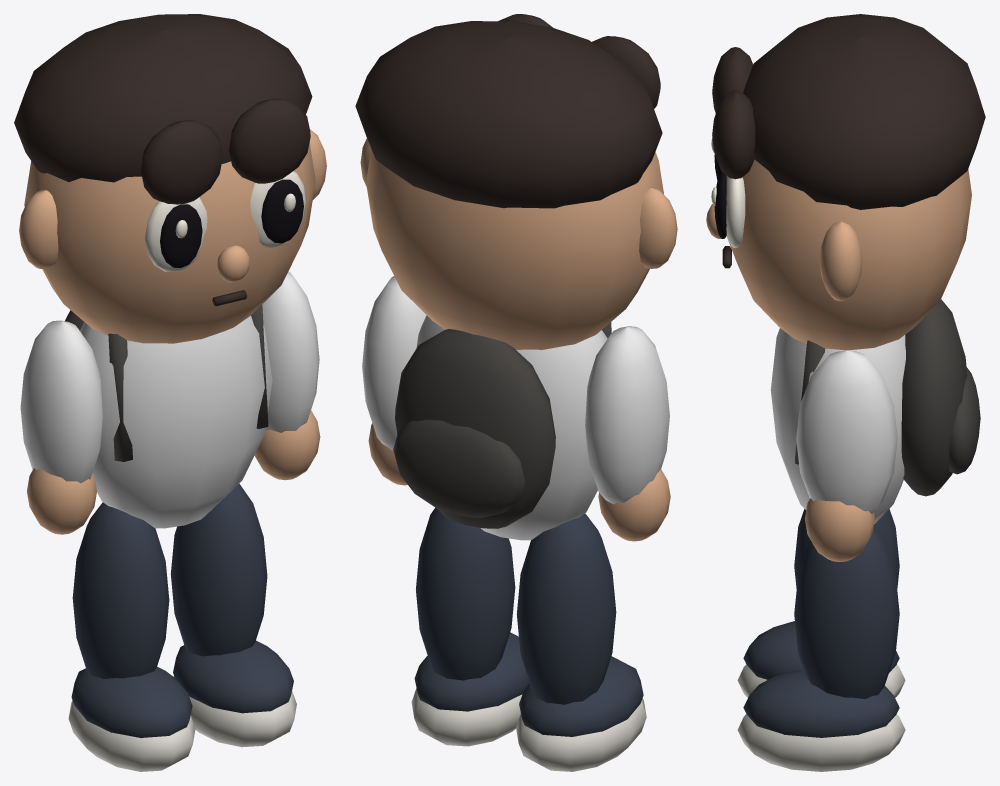
Rendered from pedestrian.glb.
The picture shows the model from 3 angles, left to right: view 1: azimuth 30°, elevation 25°; view 2: azimuth 150°, elevation 25°; view 3: azimuth 270°, elevation 25°; orthographic projection. The views are drawn at different scales.
Visible parts, largest first — view 1: Head.003, Head, Body, LeftLeg, RightLeg, LeftArm, RightArm, LeftLeg.001, Head.002, RightLeg.001, LeftArm.001, Head.001 (+2 smaller); view 2: Head.003, Head, Body.001, LeftLeg, RightLeg, LeftArm, Body, RightArm, LeftLeg.001, RightLeg.001, LeftArm.001, RightArm.001; view 3: Head.003, Head, RightLeg, RightArm, Body.001, Body, RightLeg.001, LeftLeg, RightArm.001, Head.001, LeftLeg.001, Head.002.
Part boxes in pixels (x1,y1,x2,y2): Head.003: (14,14,312,306); Head: (19,129,326,343); Body: (80,316,272,528); LeftLeg: (71,502,192,738); RightLeg: (170,483,293,713); LeftArm: (20,320,102,483); RightArm: (262,271,319,432); LeftLeg.001: (68,700,195,771); Head.002: (160,179,303,267); RightLeg.001: (173,675,296,747); LeftArm.001: (27,468,96,534); Head.001: (145,171,306,271); Head.003: (355,14,662,208); Head: (360,138,677,349); Body.001: (393,322,611,528); LeftLeg: (516,513,643,736); RightLeg: (414,507,529,711); LeftArm: (585,326,669,504); Body: (416,315,607,540); RightArm: (362,276,426,450); LeftLeg.001: (516,698,646,771); RightLeg.001: (411,688,522,746); LeftArm.001: (598,469,670,541); RightArm.001: (368,423,407,485); Head.003: (712,14,985,268); Head: (706,159,971,350); RightLeg: (743,527,899,737); RightArm: (796,350,897,513); Body.001: (795,299,980,496); Body: (770,328,905,524); RightLeg.001: (737,714,905,771); LeftLeg: (743,509,899,679); RightArm.001: (804,498,874,561); Head.001: (711,138,745,248); LeftLeg.001: (737,664,905,697); Head.002: (714,154,726,238).
Size of the model in its own units: 0.898 by 1.98 by 0.715.
